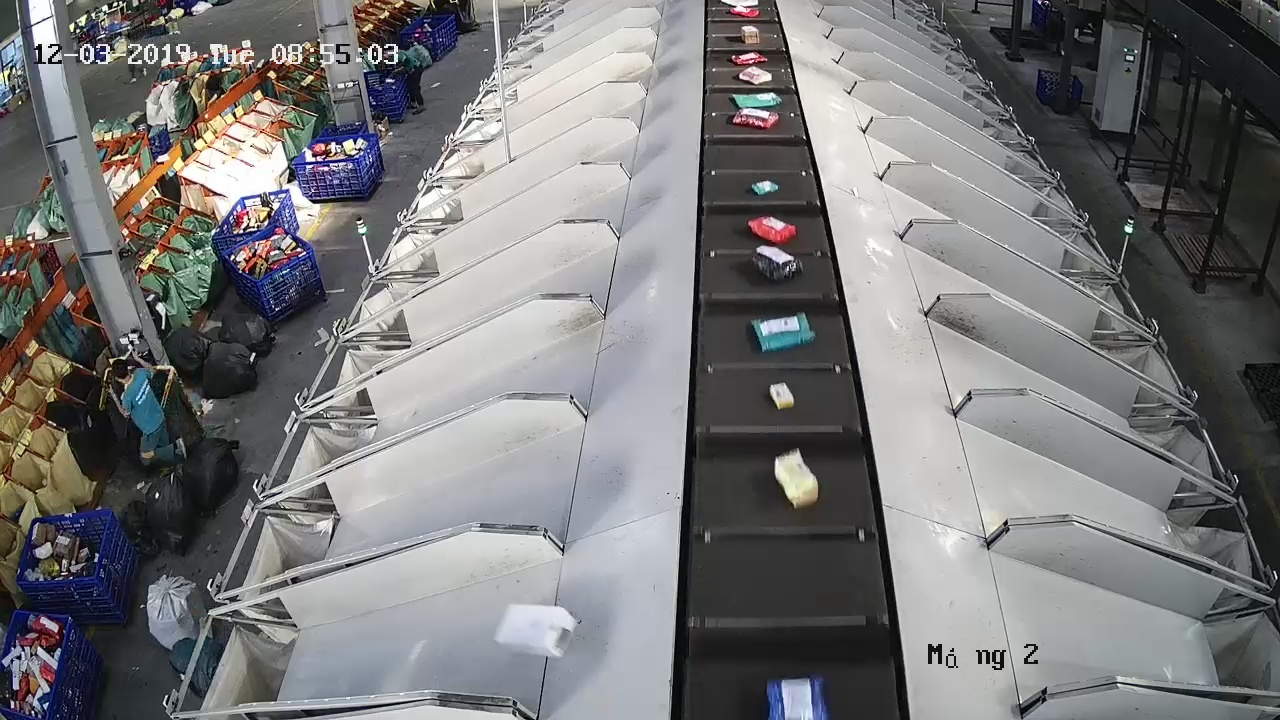parcel: (492, 602, 578, 659), (772, 447, 820, 511), (750, 310, 817, 354), (751, 245, 804, 283), (747, 213, 798, 244), (768, 381, 795, 411), (750, 178, 779, 197)
